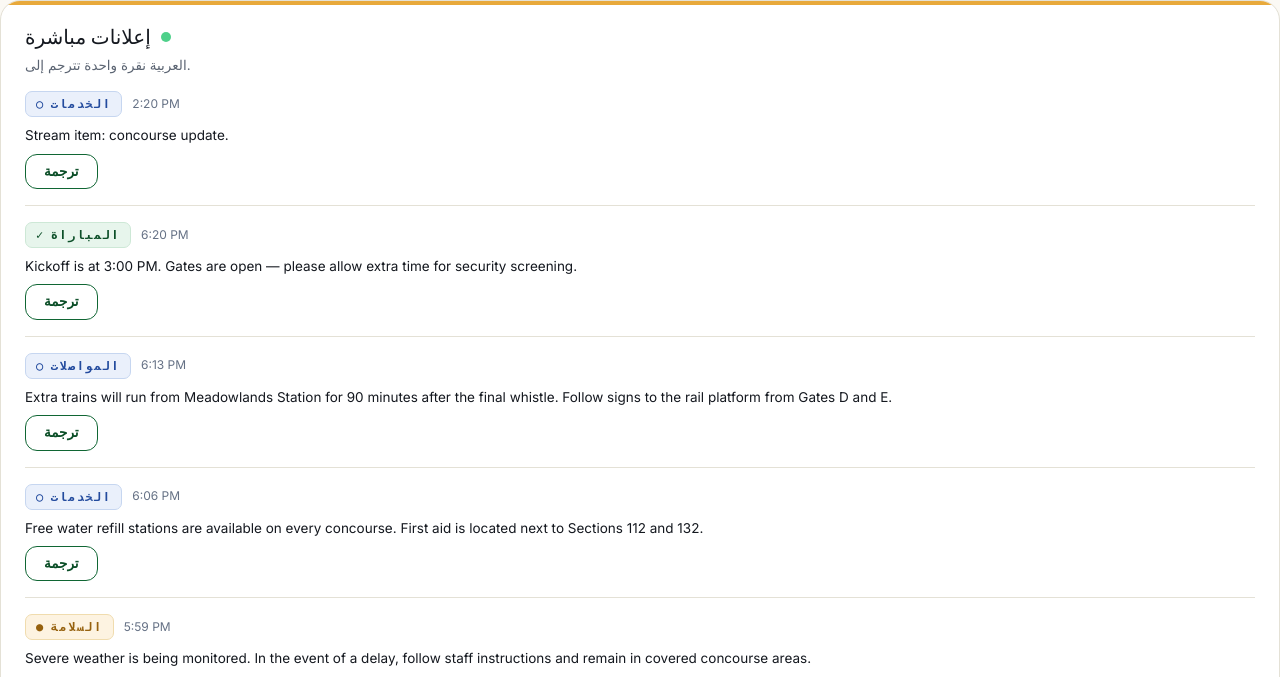
Scenario: AnnouncementsPanel › marks mock translations with the Demo data badge and renders Arabic RTL
Click the button "ترجمة" below "2:20 PM". click: coordinates (61, 171)
box: top-left (25, 154), bottom-right (98, 189)
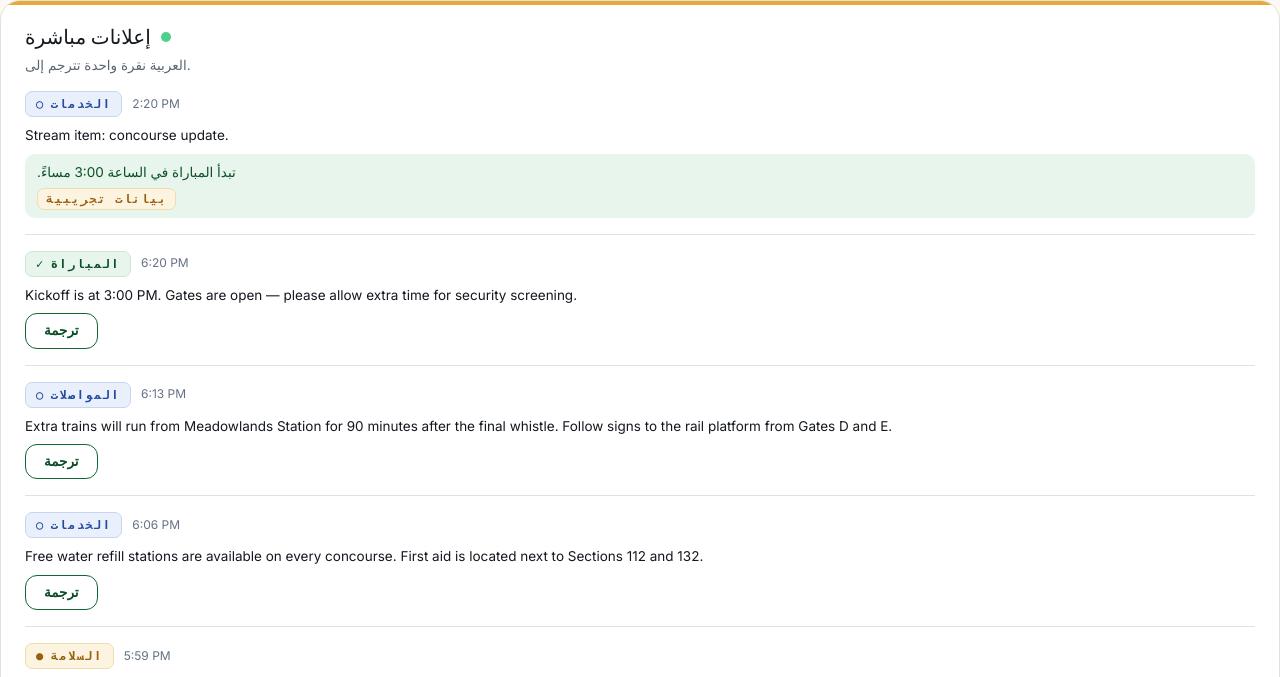
Result: the text "بيانات تجريبية" is shown at top-left (37, 188), bottom-right (176, 210)
